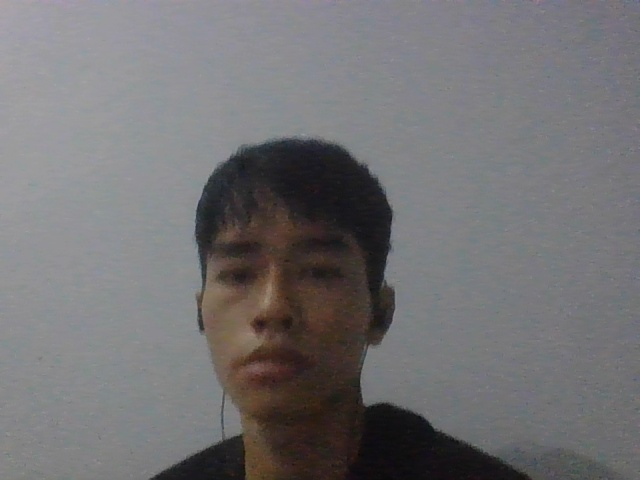real: (178, 116, 403, 435)
